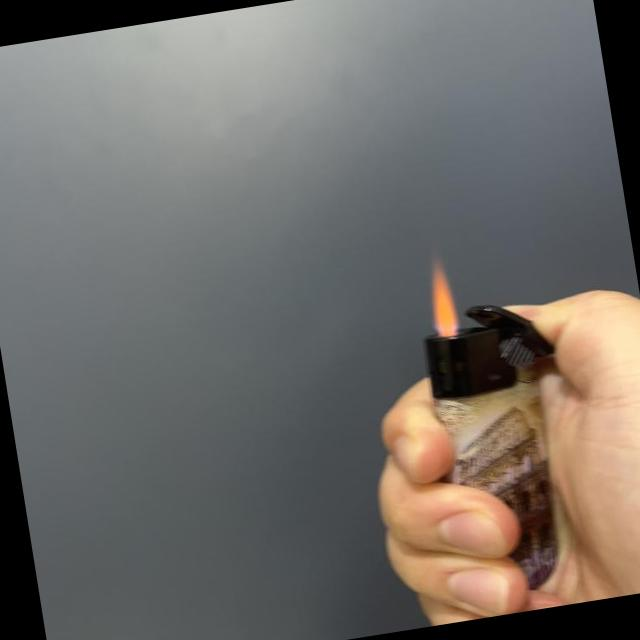Fire: (421, 260, 465, 336)
